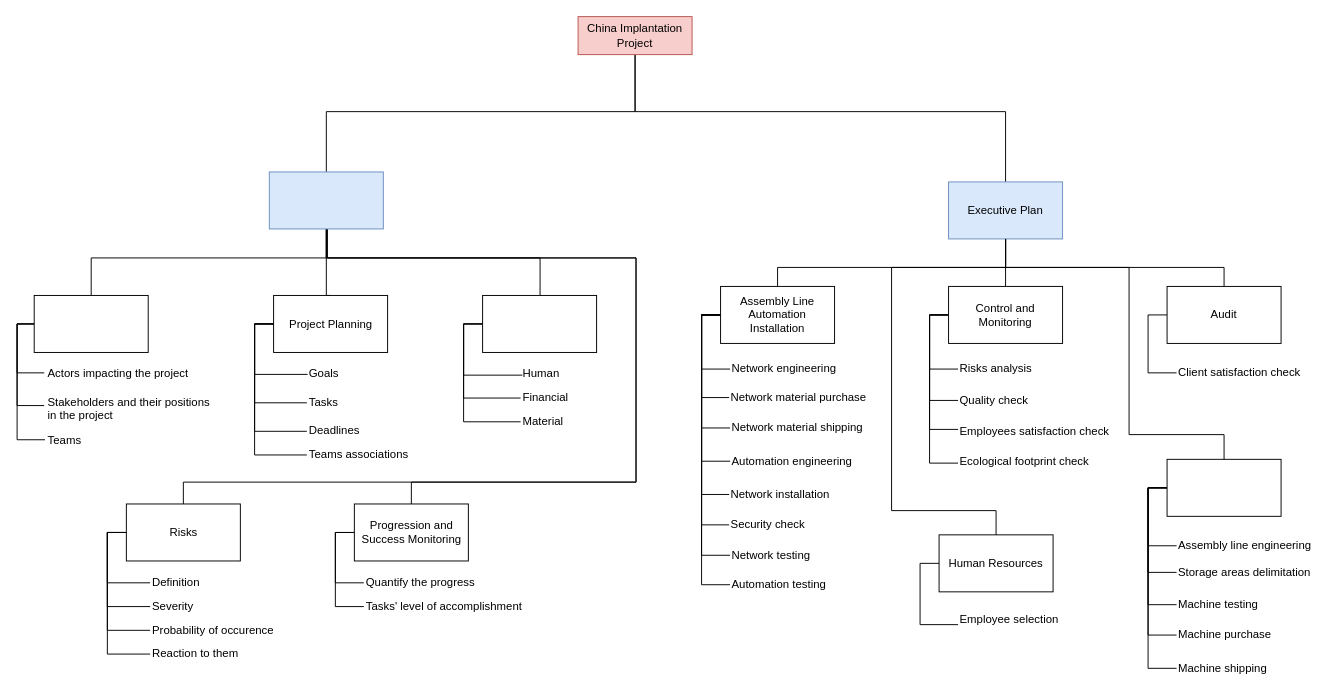
Image size: 1344x694. Some labels were removed from this diagram. The centre of each missing label's shape, as x and y in pixels:
"Actors and Stakeholders" goes at (90,323).
"Assembly Line Installation" goes at (1223,487).
"Management Plan" goes at (325,200).
"Resources" goes at (539,323).
